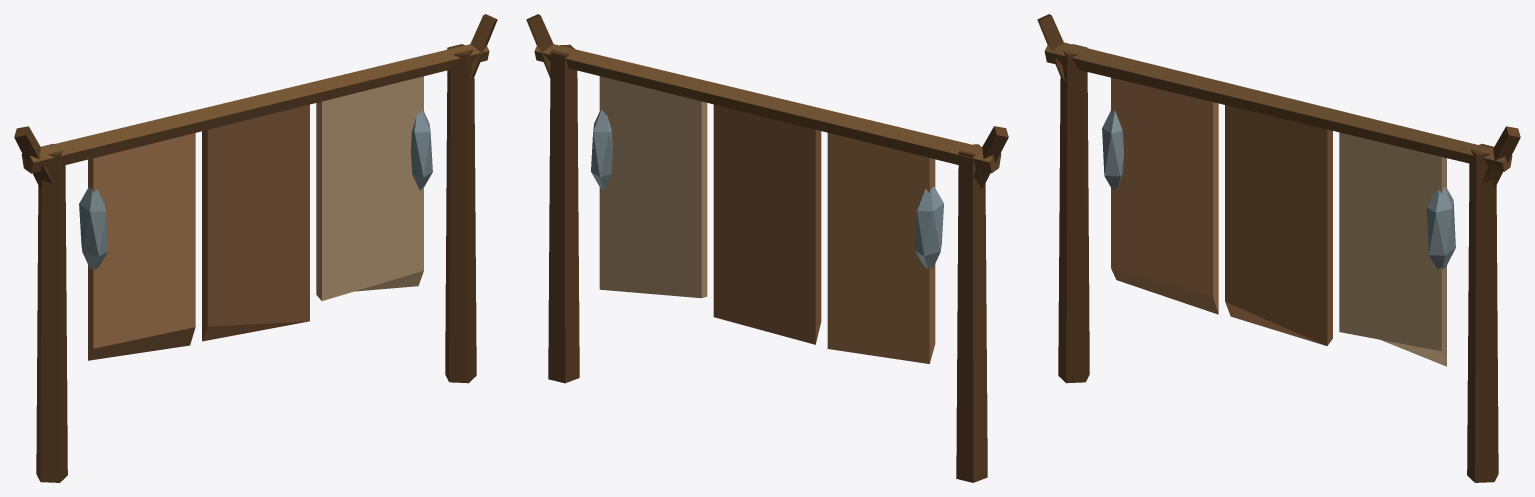
The model's file is rack.glb.
3 renders of one model, left to right at view 1: azimuth 30°, elevation 25°; view 2: azimuth 150°, elevation 25°; view 3: azimuth 330°, elevation 25°, orthographic.
Visible parts, largest first — view 1: rack; view 2: rack; view 3: rack.
Part boxes in pixels (left/top/right/bottom): rack: left=14, top=14, right=497, bottom=482; rack: left=526, top=14, right=1008, bottom=482; rack: left=1037, top=14, right=1520, bottom=482.
Bounding box in the file's own units: 4.02 × 2.83 × 0.2552.
